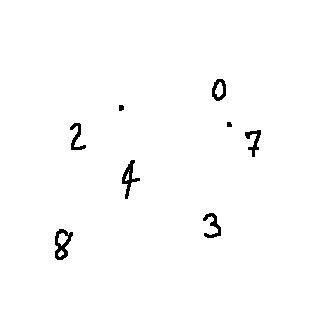.: (222, 116, 239, 135), (117, 97, 128, 115)
0: (207, 73, 229, 108)
2: (63, 113, 91, 158)
3: (196, 203, 229, 249)
4: (118, 153, 146, 201)
7: (244, 123, 270, 162)
8: (48, 224, 77, 269)
